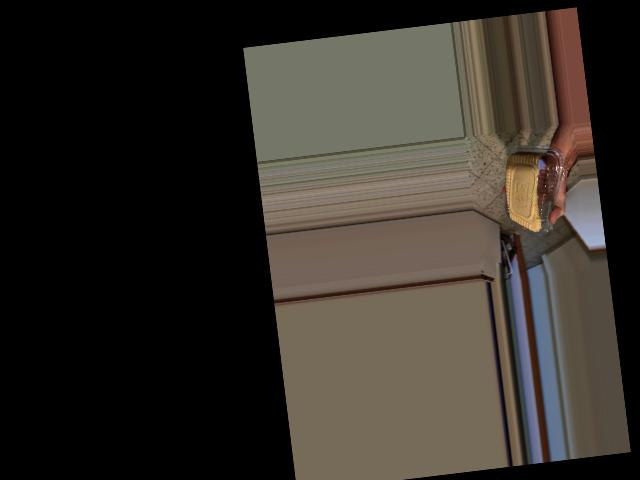cheese: (507, 138, 553, 217)
